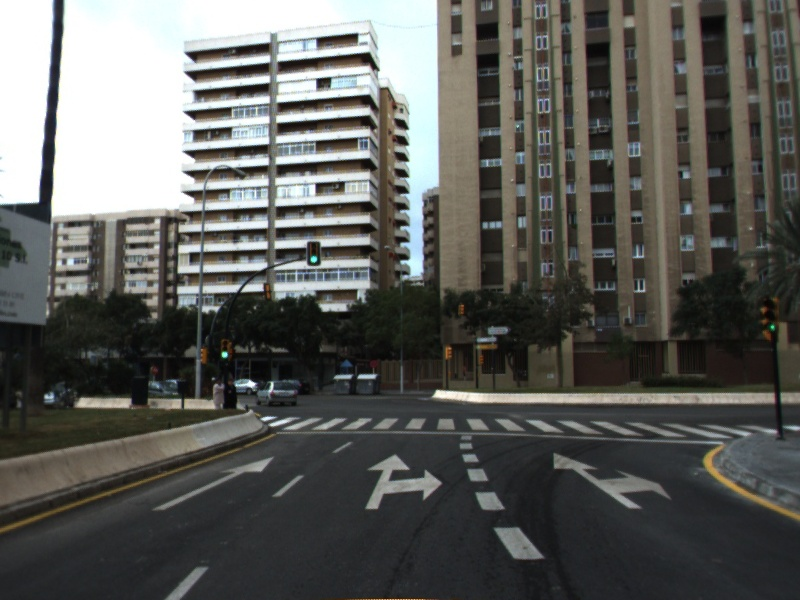STRAIGHT: (150, 454, 277, 513)
STRAIGHT_RIGHT: (551, 451, 674, 510), (363, 452, 445, 511)
